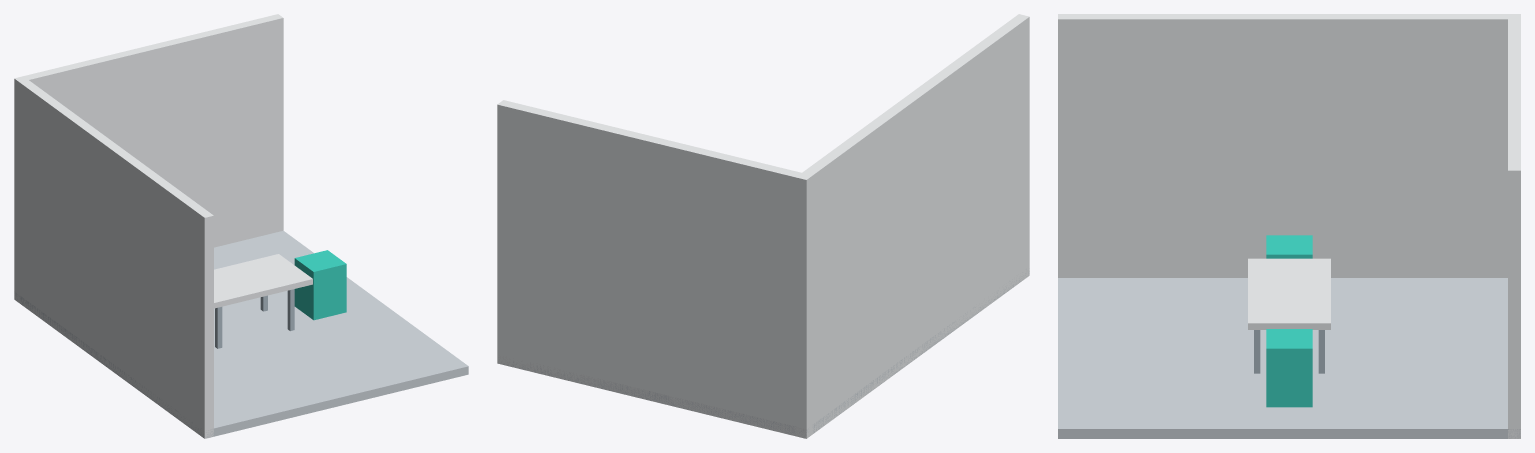
3 renders of one model, left to right at view 1: azimuth 30°, elevation 25°; view 2: azimuth 150°, elevation 25°; view 3: azimuth 270°, elevation 25°, orthographic. The views are drawn at different scales.
Visible parts, largest first — view 1: Exhibition Booth Concept; view 2: Exhibition Booth Concept; view 3: Exhibition Booth Concept.
Part boxes in pixels (<box>): Exhibition Booth Concept: <box>14,14,468,438</box>; Exhibition Booth Concept: <box>497,14,1029,438</box>; Exhibition Booth Concept: <box>1058,14,1520,438</box>.
Size of the model in its own units: 4 by 3.2 by 5.
